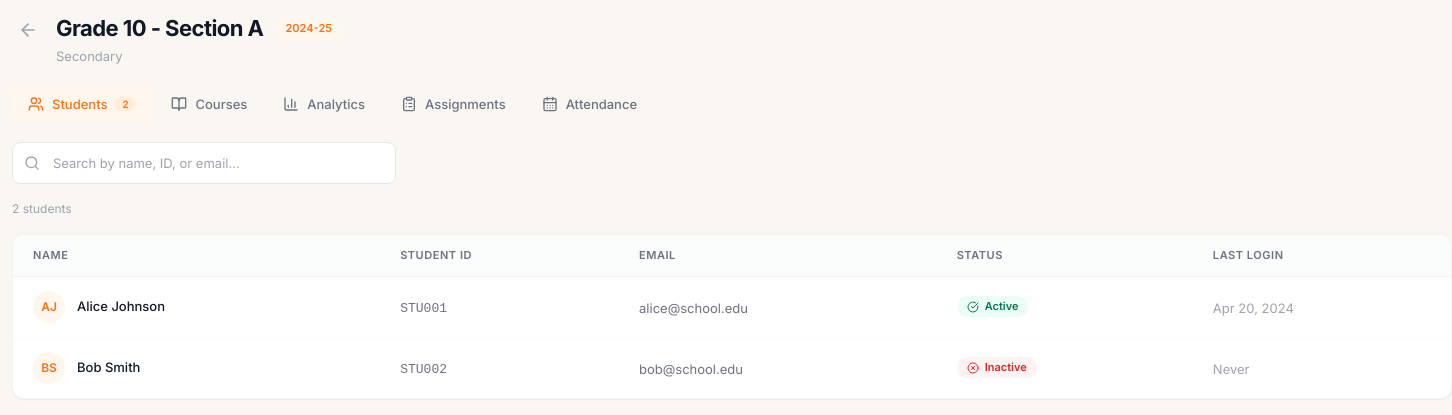
SectionDashboardPage › filters students by search input
Expected: the text "Alice Johnson" is shown, [77, 297, 165, 316]
Type "alice" into the field with placeholder "Search by name, ID, or email..." at (204, 163), box [12, 142, 396, 184]
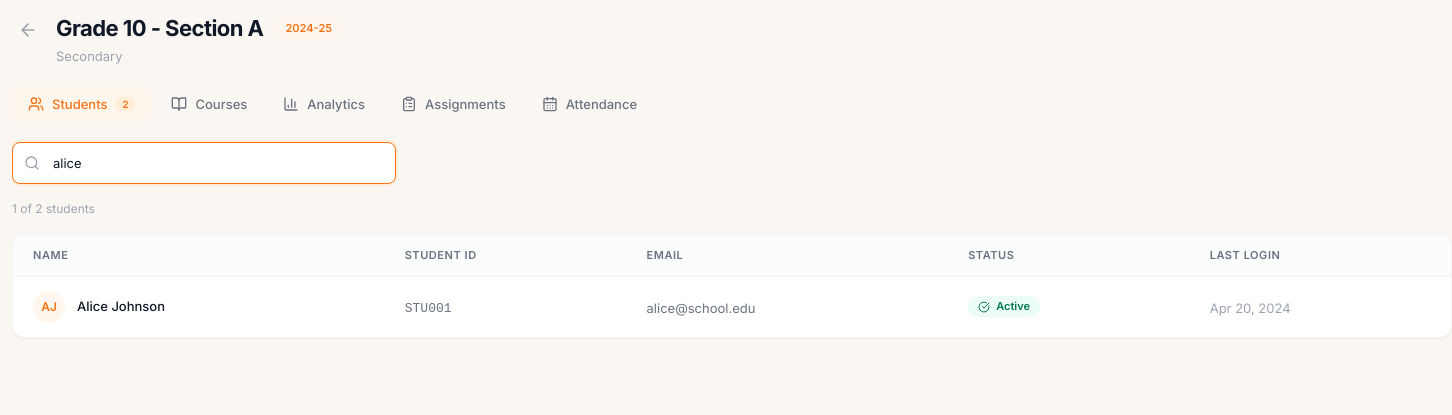
Expected: the text "Alice Johnson" is shown, [77, 297, 165, 316]
Result: the text "Bob Smith" is gone
